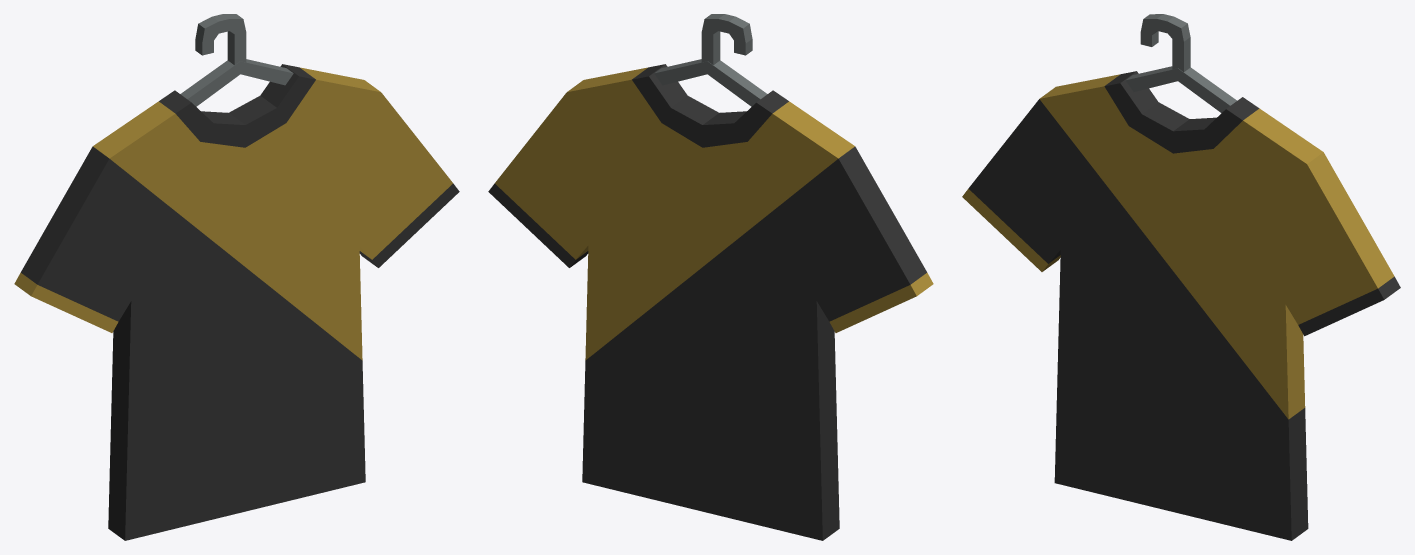
Rendered from SM_Props_Interior_Shop_Clothes_Shirt_02.fbx.
The picture shows the model from 3 angles, left to right: view 1: azimuth 30°, elevation 25°; view 2: azimuth 150°, elevation 25°; view 3: azimuth 330°, elevation 25°; orthographic projection.
Parts seen in each view (by area): view 1: SM_Props_Interior_Shop_Clothes_Shirt_02; view 2: SM_Props_Interior_Shop_Clothes_Shirt_02; view 3: SM_Props_Interior_Shop_Clothes_Shirt_02.
Boxes of the visible parts, box(x1,y1,x2,y2) form: SM_Props_Interior_Shop_Clothes_Shirt_02: box(14, 14, 459, 540); SM_Props_Interior_Shop_Clothes_Shirt_02: box(488, 14, 933, 540); SM_Props_Interior_Shop_Clothes_Shirt_02: box(962, 14, 1400, 540).
Bounding box in the file's own units: 74.57 × 81.73 × 5.07.
